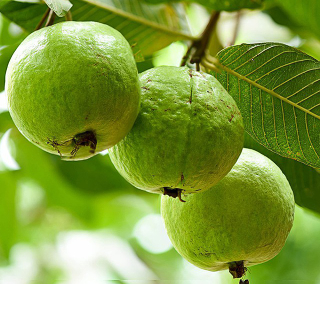oi: (5, 14, 142, 170), (151, 138, 300, 276), (108, 59, 245, 206)
